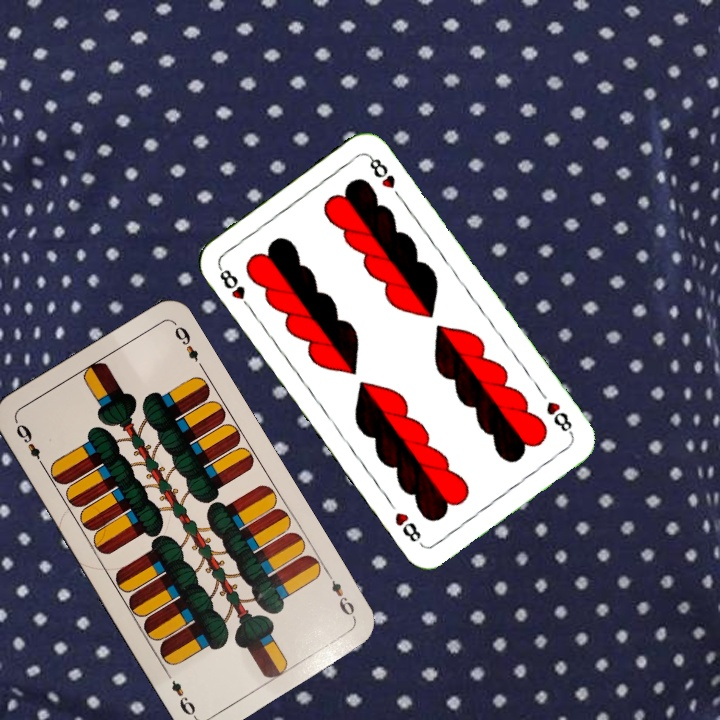E9: (323, 567, 359, 622), (12, 419, 48, 471)
H8: (214, 262, 255, 313), (542, 397, 576, 439)
